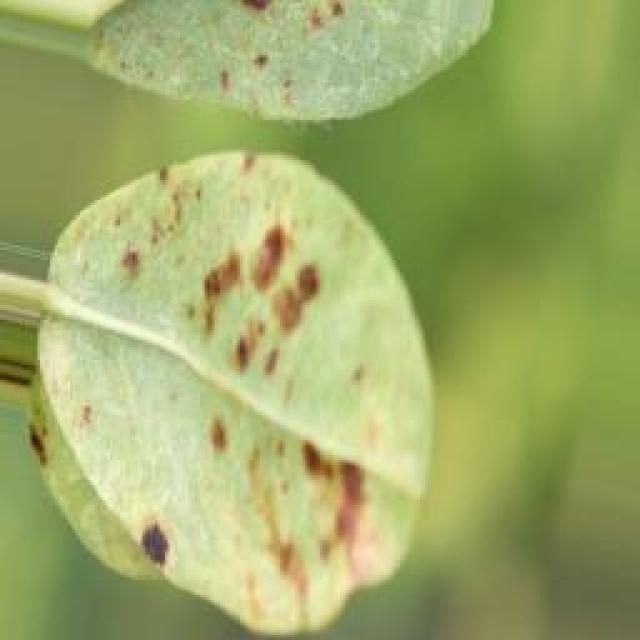Whitefly: (51, 0, 476, 640)
